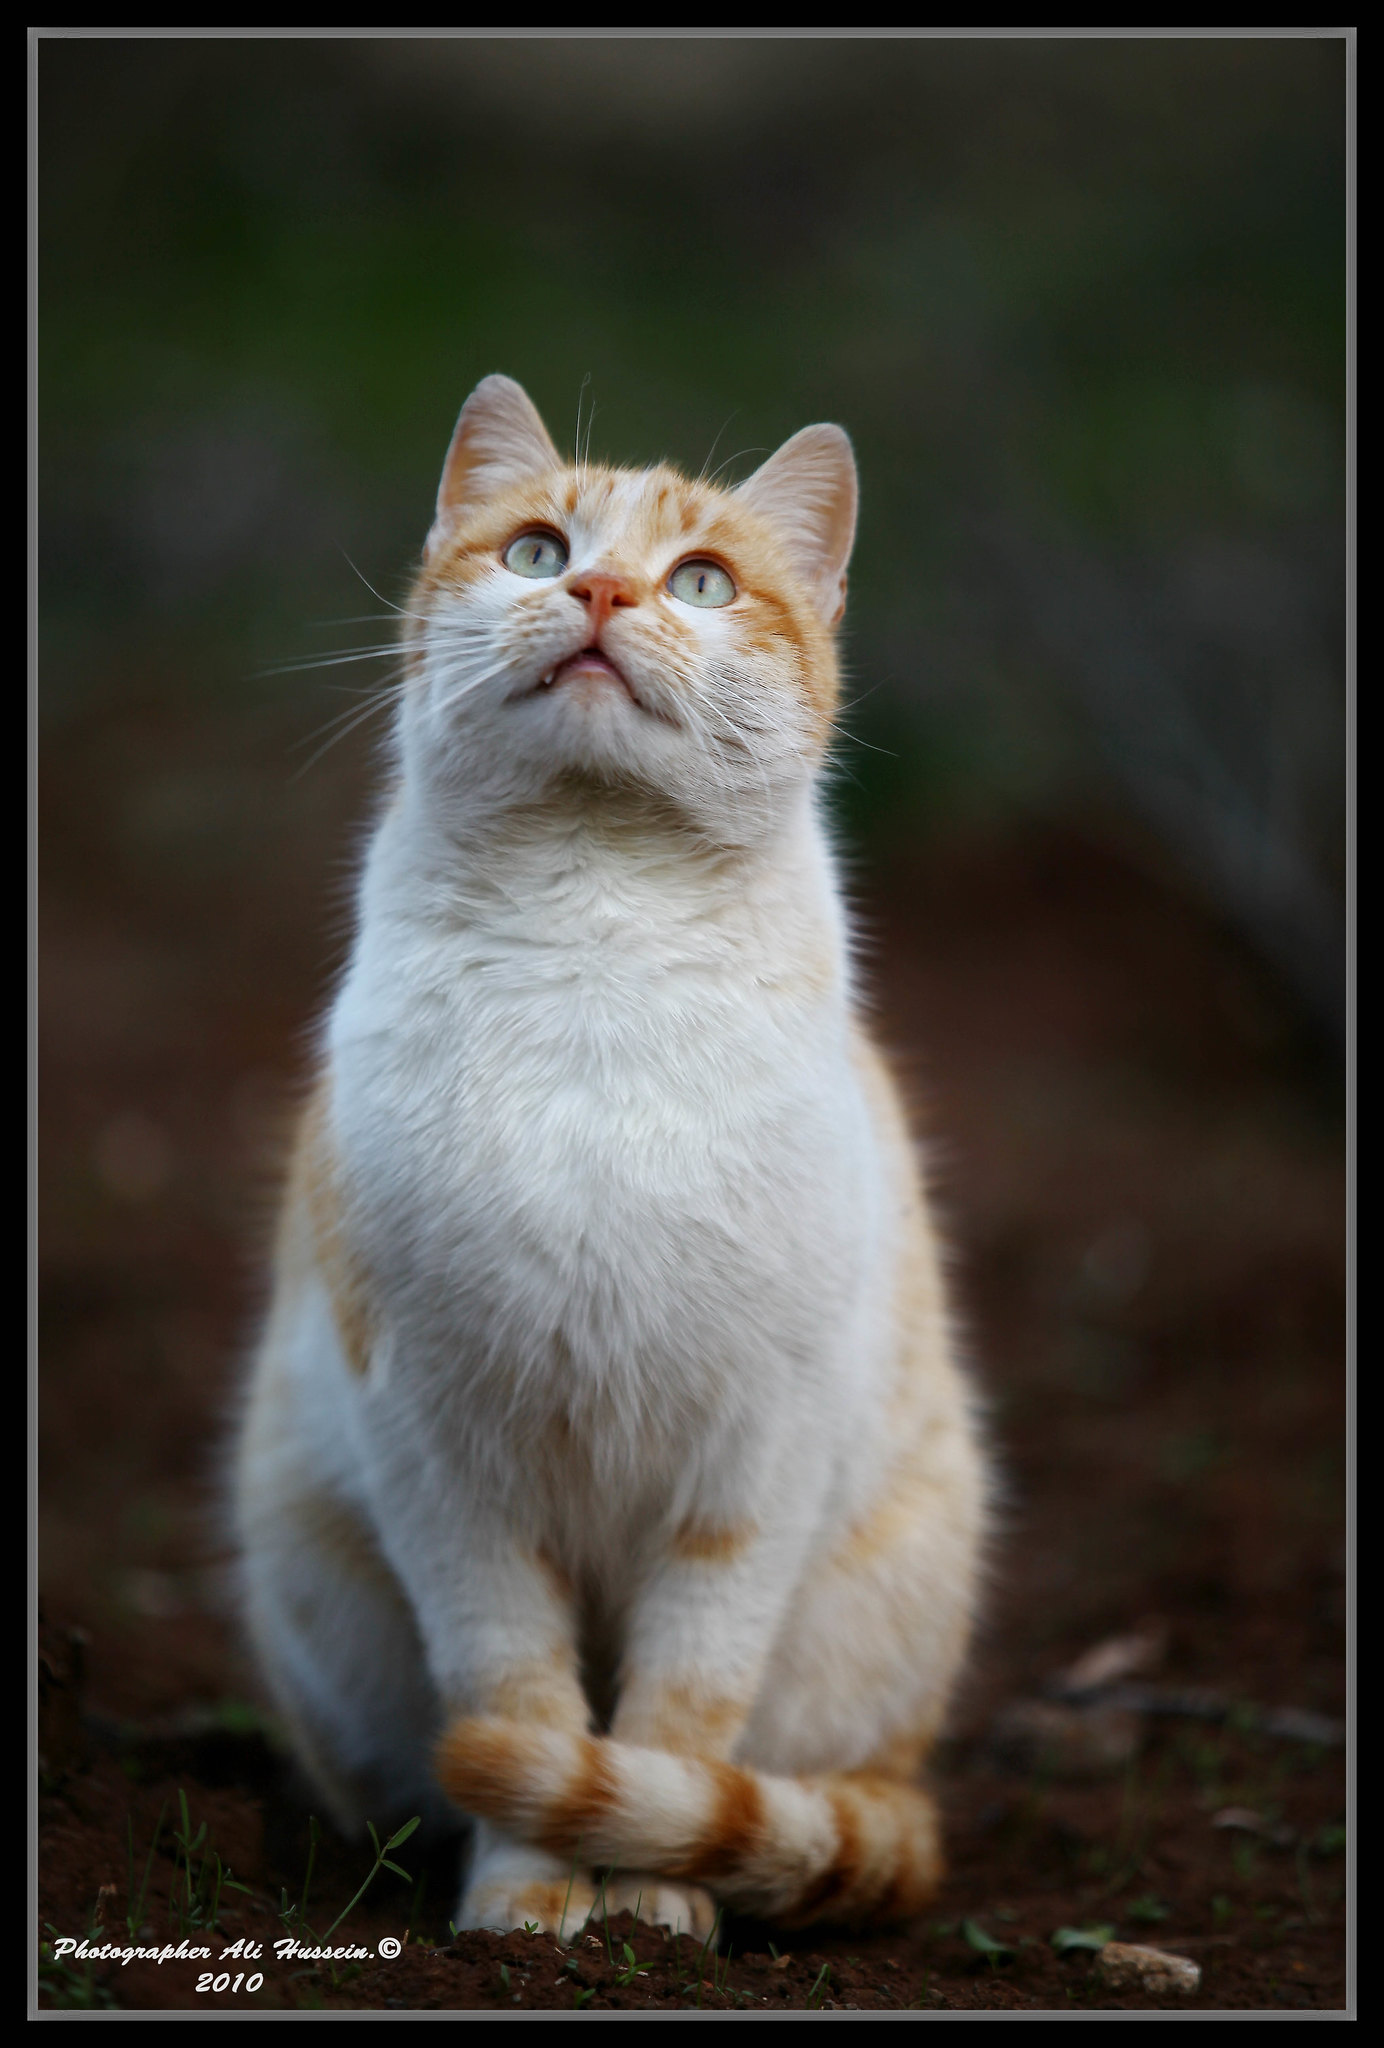cat: (236, 361, 1015, 1948)
